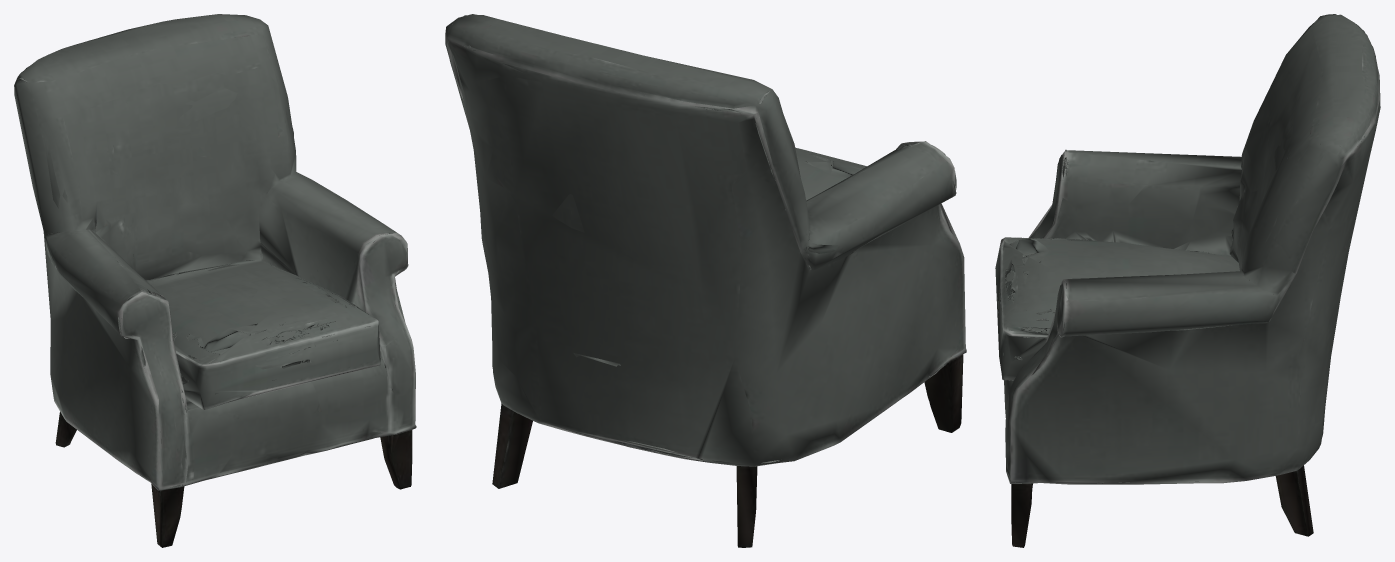
The model's file is armchair.glb.
3 renders of one model, left to right at view 1: azimuth 30°, elevation 25°; view 2: azimuth 150°, elevation 25°; view 3: azimuth 270°, elevation 25°, orthographic. The views are drawn at different scales.
Visible parts, largest first — view 1: world; view 2: world; view 3: world.
Part boxes in pixels (x1,y1,x2,y2): world: (14,14,416,547); world: (445,14,966,547); world: (995,14,1380,547).
Size of the model in its own units: 0.8102 by 0.9964 by 0.8434.
Materials: 1 (1 with a texture image).
